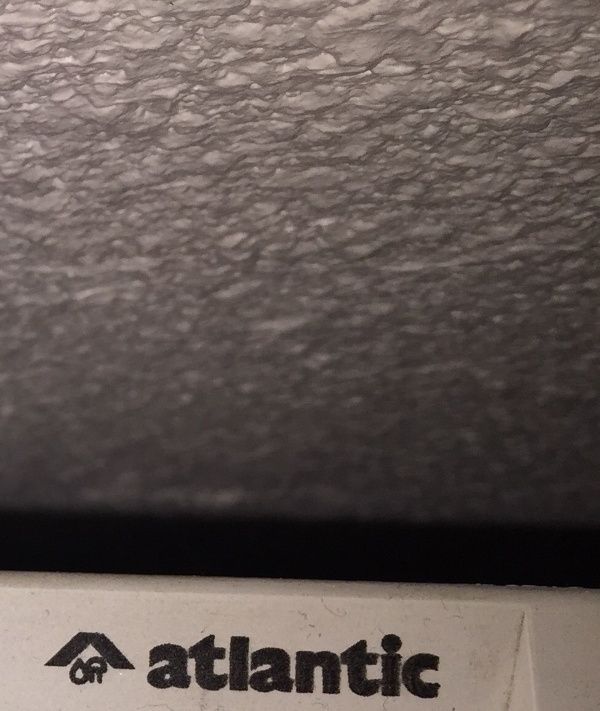text: (161, 634, 176, 700), (177, 634, 192, 700), (193, 634, 208, 700), (209, 634, 224, 700), (225, 634, 240, 700), (241, 634, 256, 700), (257, 634, 272, 700), (273, 634, 288, 700), (289, 634, 304, 700), (305, 634, 320, 700), (321, 634, 336, 700), (337, 634, 352, 700), (353, 634, 368, 700), (369, 634, 384, 700), (385, 634, 400, 700), (401, 634, 416, 700), (417, 634, 432, 700), (146, 634, 160, 700), (433, 634, 442, 700)
